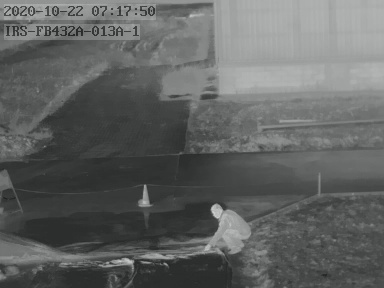person: (206, 204, 251, 254)
